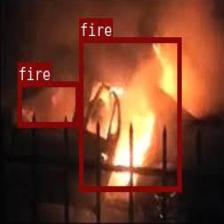fire: (79, 37, 180, 190), (17, 80, 79, 125)
